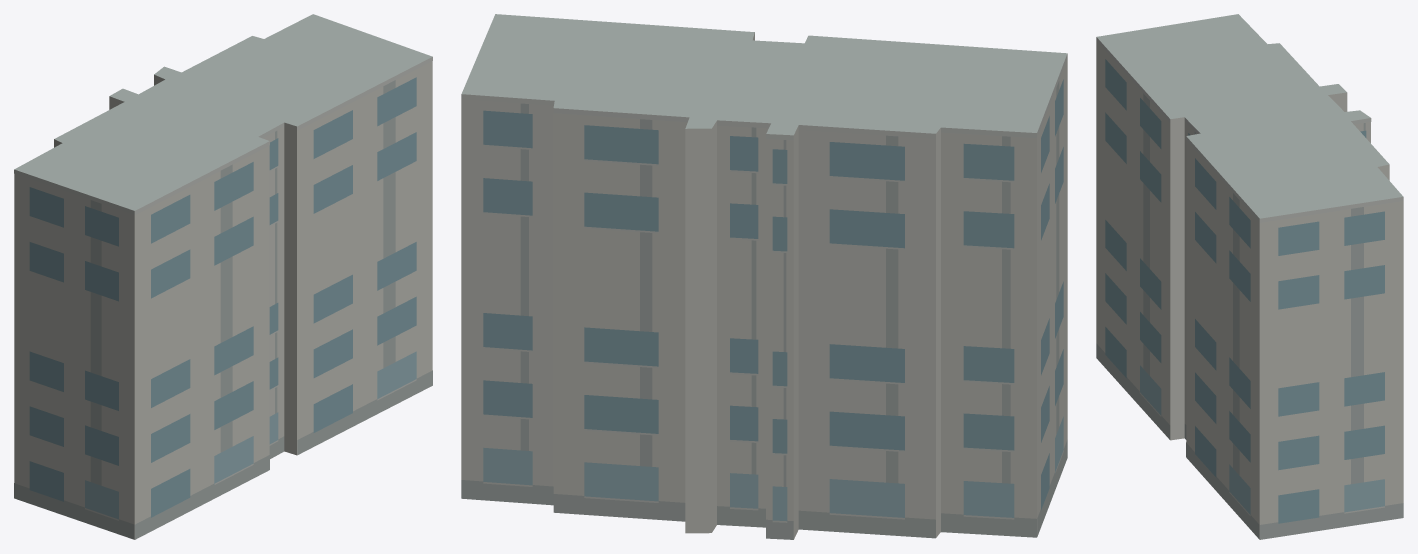
File: survey-upis-32804009.glb
3 renders of one model, left to right at view 1: azimuth 30°, elevation 25°; view 2: azimuth 150°, elevation 25°; view 3: azimuth 270°, elevation 25°, orthographic. The views are drawn at different scales.
Visible parts, largest first — view 1: survey-upis-32804009.tmp; view 2: survey-upis-32804009.tmp; view 3: survey-upis-32804009.tmp.
Part boxes in pixels (x1,y1,x2,y2): survey-upis-32804009.tmp: (14, 14, 432, 539); survey-upis-32804009.tmp: (461, 14, 1067, 539); survey-upis-32804009.tmp: (1096, 14, 1403, 539).
Bounding box in the file's own units: 26.25 × 19.2 × 16.65.
